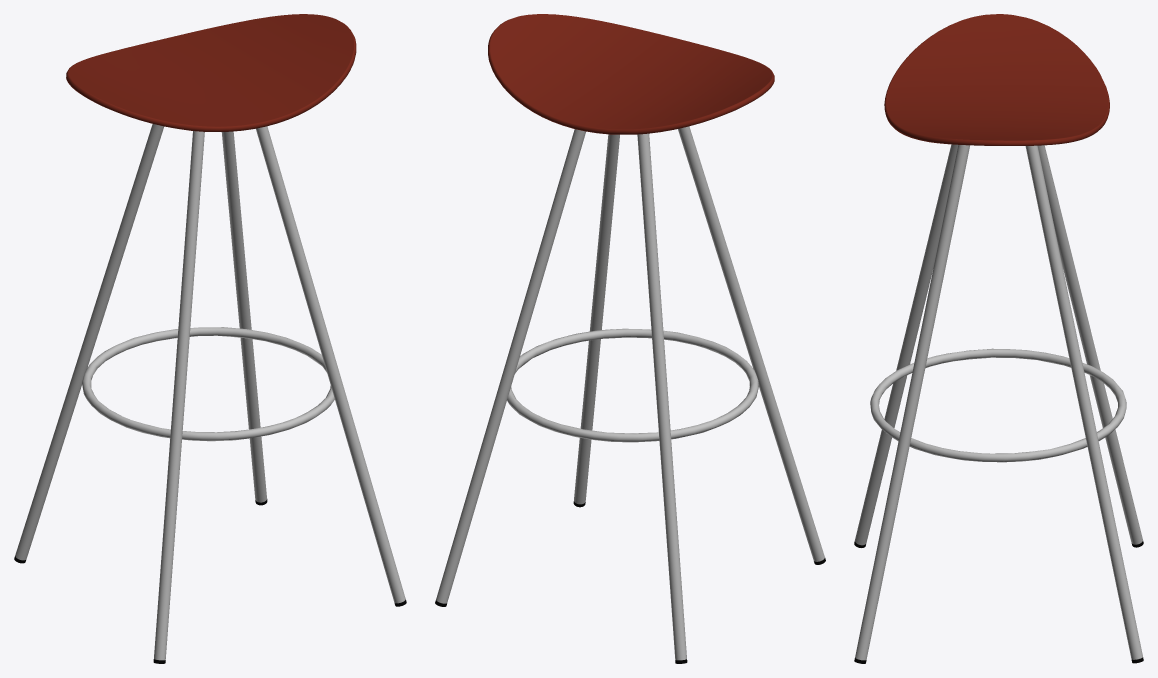
Rendered from Furniture_Chairs-Stools-Benches_Enea_Coma-4L-high-stool.fbx.
3 views of the same model, side by side, from view 1: azimuth 30°, elevation 25°; view 2: azimuth 150°, elevation 25°; view 3: azimuth 270°, elevation 25° (orthographic).
Parts seen in each view (by area): view 1: Mesh_7_38545f17_de6c_42ec_a0c9_01df45ab5d92, Mesh_5_6dc168da_4f33_4a0e_ae6d_c1a91a5af2f4_Ch1, Mesh_1_39937a14_c26b_4eff_aafb_77e7ca4383c7_Ch1; view 2: Mesh_7_38545f17_de6c_42ec_a0c9_01df45ab5d92, Mesh_5_6dc168da_4f33_4a0e_ae6d_c1a91a5af2f4_Ch1, Mesh_1_39937a14_c26b_4eff_aafb_77e7ca4383c7_Ch1; view 3: Mesh_7_38545f17_de6c_42ec_a0c9_01df45ab5d92, Mesh_5_6dc168da_4f33_4a0e_ae6d_c1a91a5af2f4_Ch1, Mesh_1_39937a14_c26b_4eff_aafb_77e7ca4383c7_Ch1.
Boxes of the visible parts, x1,y1,x2,y2 form: Mesh_7_38545f17_de6c_42ec_a0c9_01df45ab5d92: (66, 14, 356, 131); Mesh_5_6dc168da_4f33_4a0e_ae6d_c1a91a5af2f4_Ch1: (15, 124, 405, 660); Mesh_1_39937a14_c26b_4eff_aafb_77e7ca4383c7_Ch1: (82, 327, 334, 441); Mesh_7_38545f17_de6c_42ec_a0c9_01df45ab5d92: (488, 14, 774, 134); Mesh_5_6dc168da_4f33_4a0e_ae6d_c1a91a5af2f4_Ch1: (436, 126, 824, 660); Mesh_1_39937a14_c26b_4eff_aafb_77e7ca4383c7_Ch1: (507, 328, 758, 442); Mesh_7_38545f17_de6c_42ec_a0c9_01df45ab5d92: (884, 14, 1109, 145); Mesh_5_6dc168da_4f33_4a0e_ae6d_c1a91a5af2f4_Ch1: (855, 144, 1142, 660); Mesh_1_39937a14_c26b_4eff_aafb_77e7ca4383c7_Ch1: (870, 348, 1126, 462).
Size of the model in its own units: 418 by 395 by 794.
